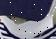mask_weared_incorrect: (1, 1, 56, 39)
